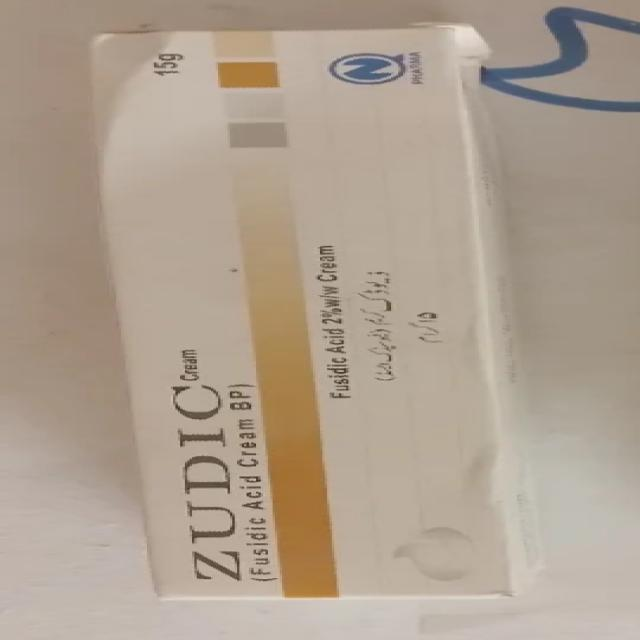drug-name: (168, 383, 244, 583)
